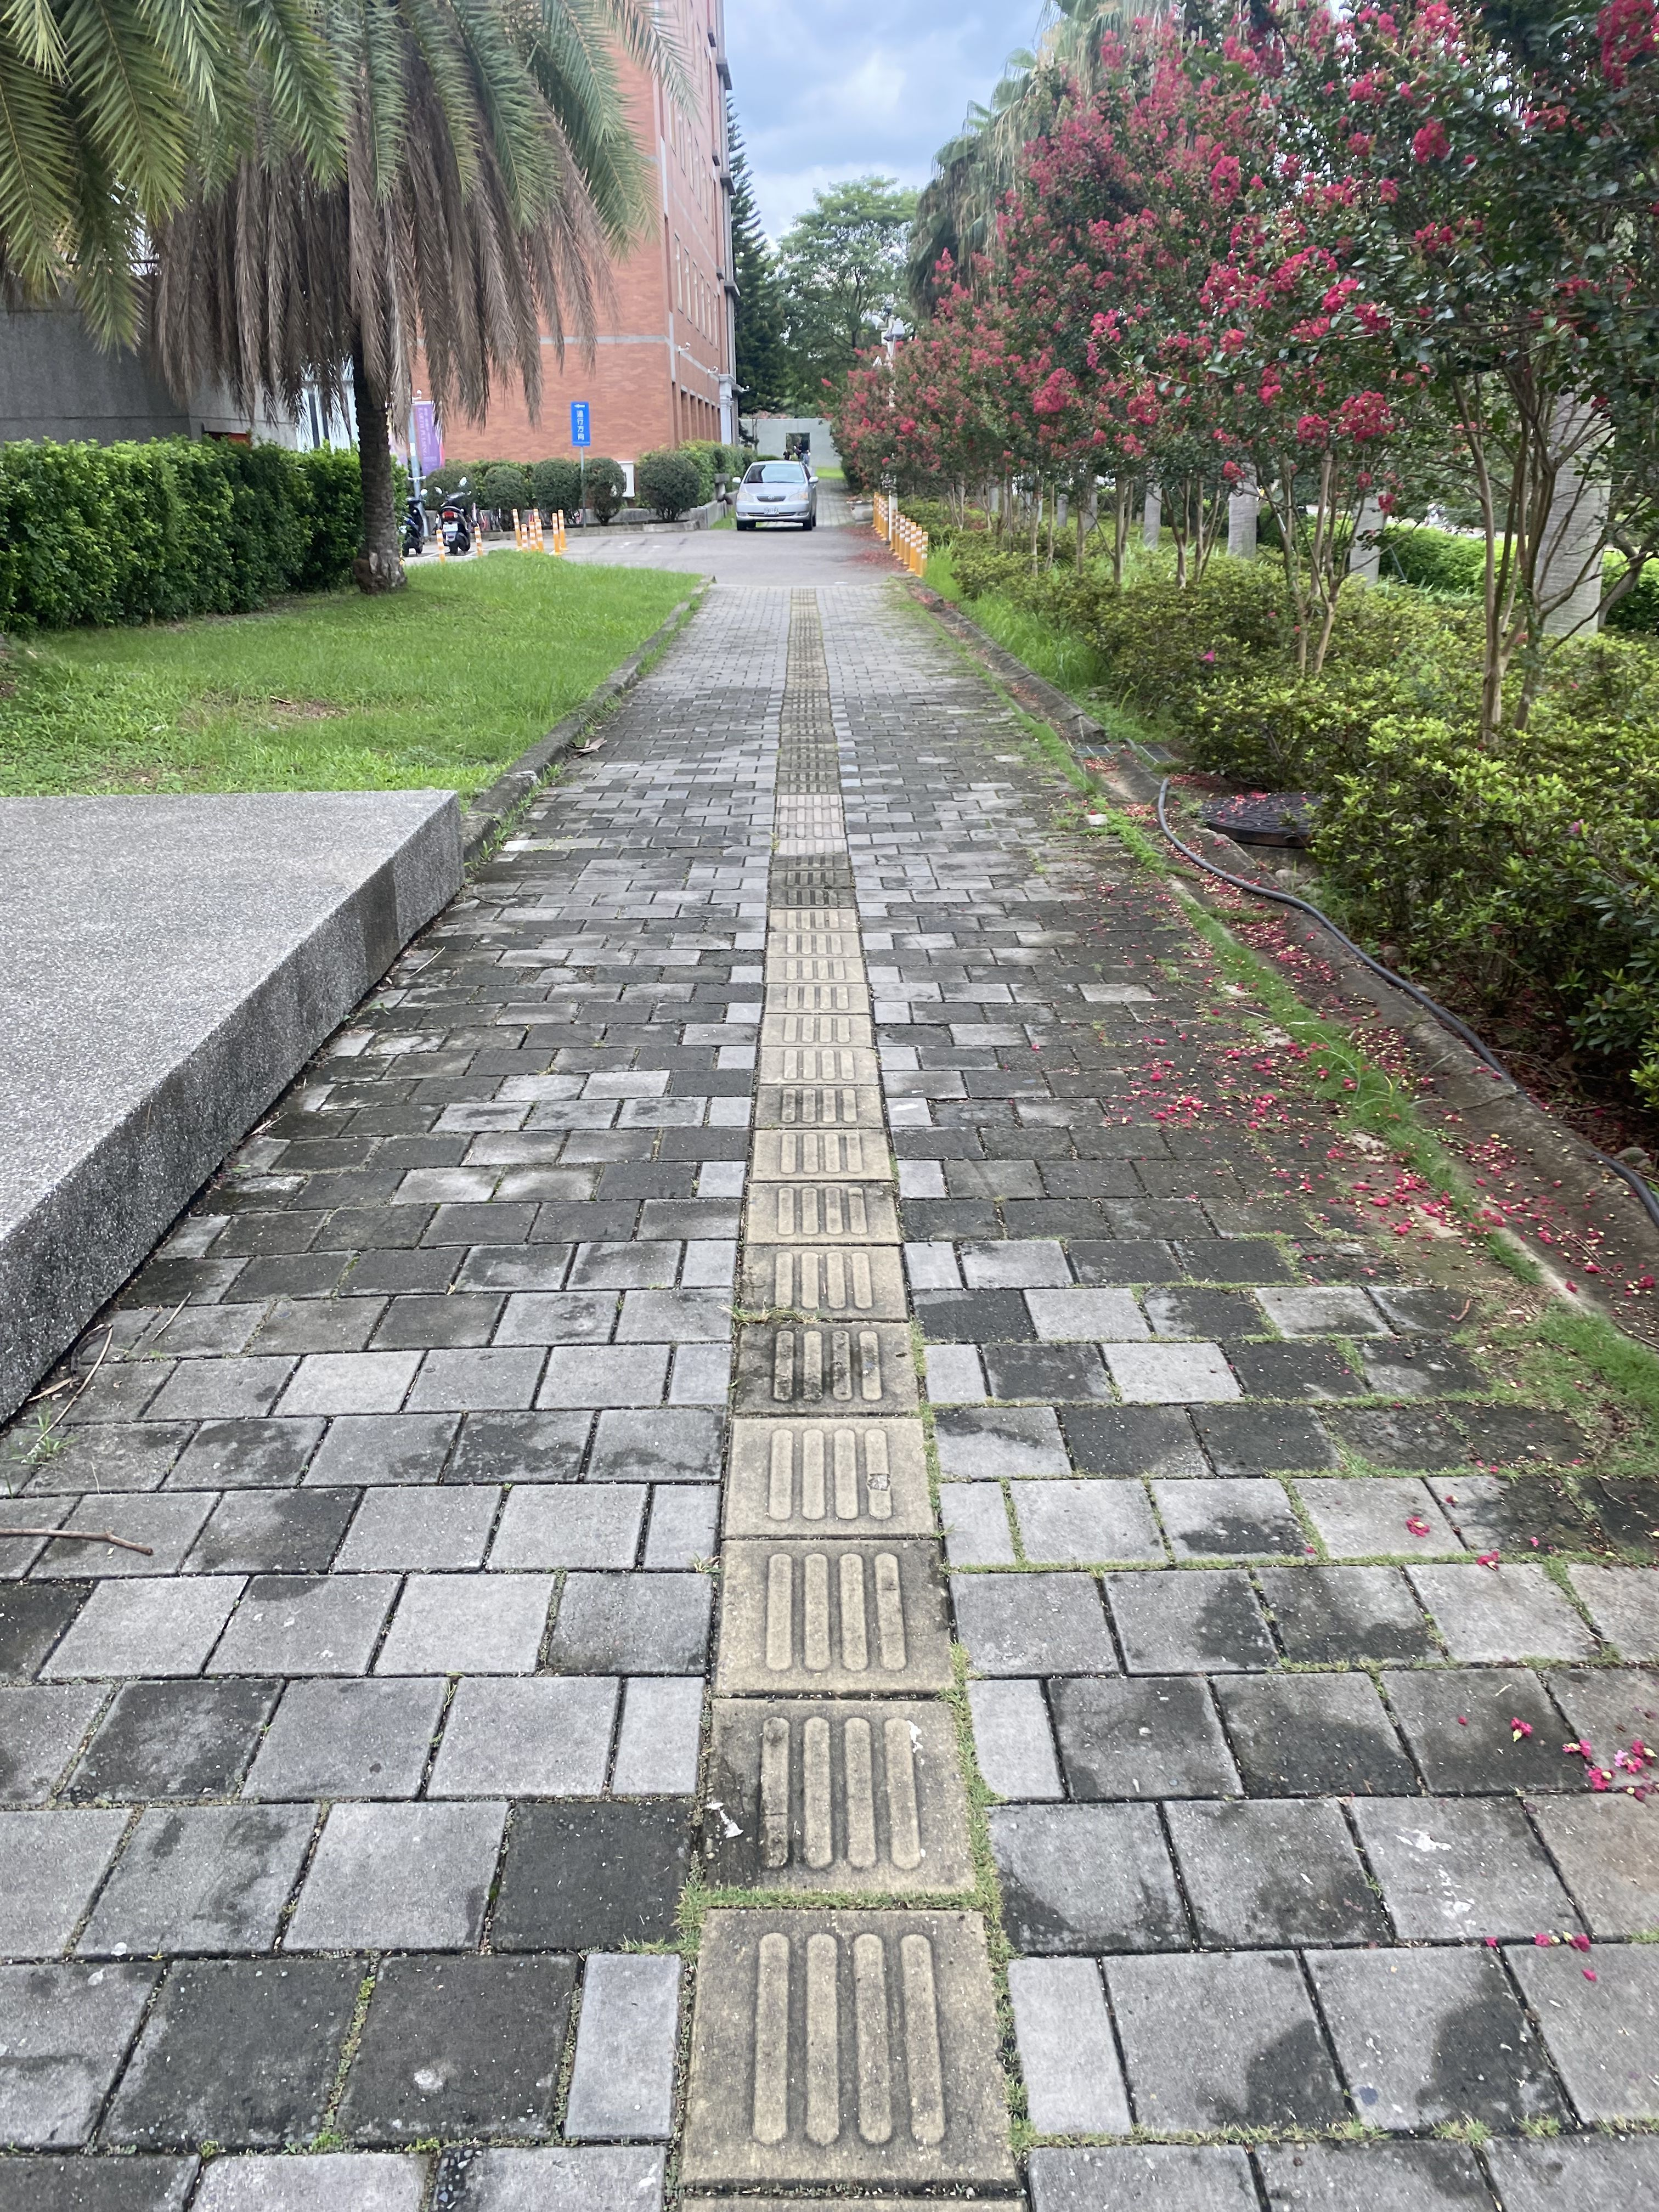0: (0, 751, 1659, 2212)
sidewalk: (554, 570, 1138, 1486)
